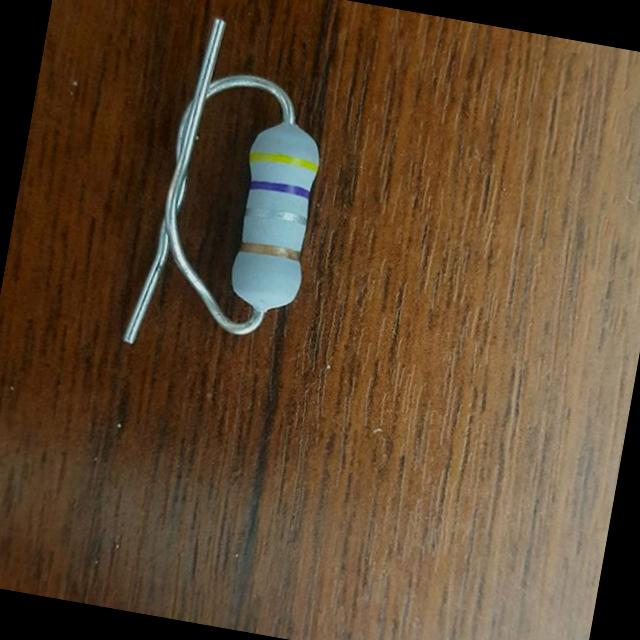Resistor: (233, 119, 325, 312)
